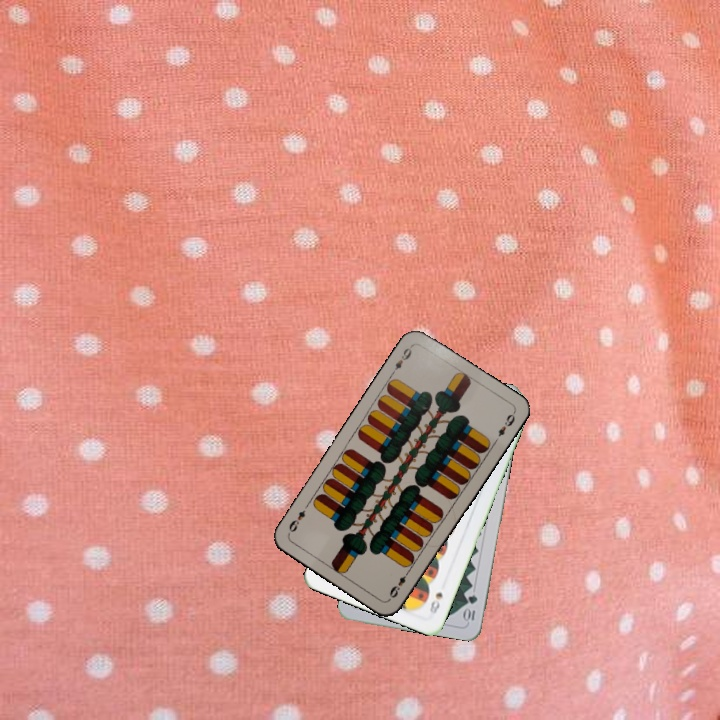E9: (387, 341, 415, 377), (385, 566, 413, 601)
G10: (461, 591, 480, 625)
S8: (426, 588, 445, 617)
